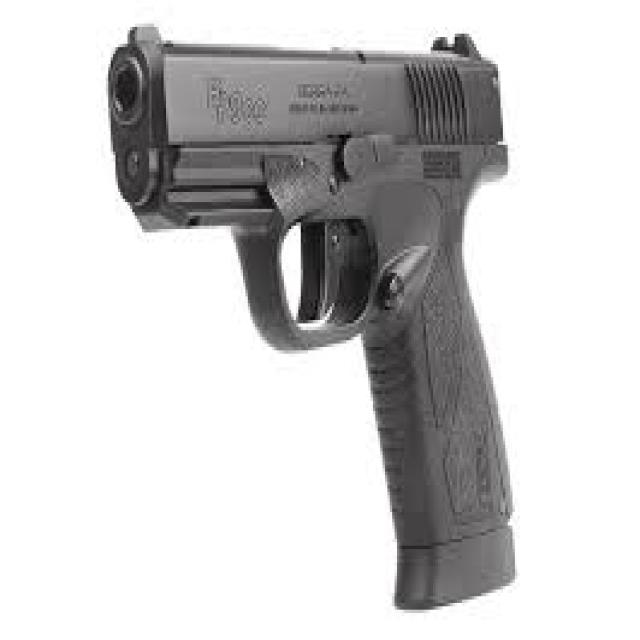pistol: (108, 20, 526, 620)
